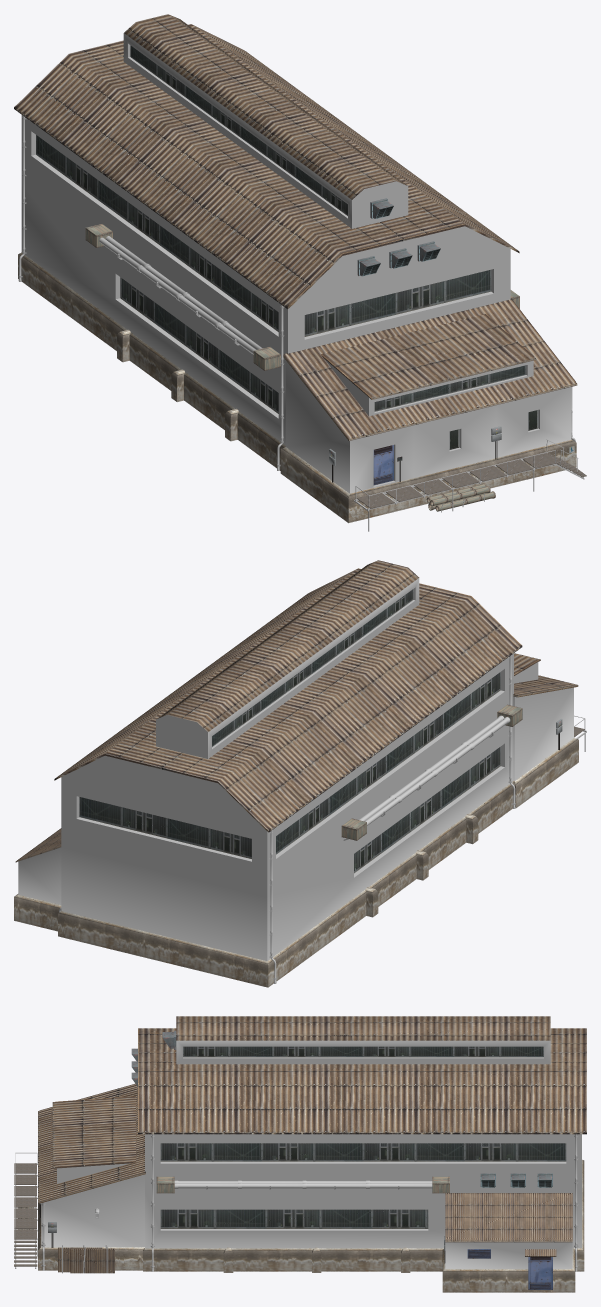
The model's file is building7_lod0.fbx.
3 views of the same model, one above another, from view 1: azimuth 30°, elevation 25°; view 2: azimuth 150°, elevation 25°; view 3: azimuth 270°, elevation 25° (orthographic). The views are drawn at different scales.
Visible parts, largest first — view 1: Mesh Object_ncl1_6, Mesh Object, Mesh Object_ncl1_8, Mesh Object_ncl1_1, Mesh Object_ncl1_5; view 2: Mesh Object_ncl1_6, Mesh Object, Mesh Object_ncl1_7, Mesh Object_ncl1_8; view 3: Mesh Object_ncl1_6, Mesh Object, Mesh Object_ncl1_7, Mesh Object_ncl1_8, Mesh Object_ncl1_1, Mesh Object_ncl1_3.
Boxes of the visible parts, x1,y1,x2,y2 form: Mesh Object_ncl1_6: (14, 14, 519, 470); Mesh Object: (280, 298, 577, 523); Mesh Object_ncl1_8: (18, 115, 519, 470); Mesh Object_ncl1_1: (354, 439, 586, 531); Mesh Object_ncl1_5: (426, 483, 495, 512); Mesh Object_ncl1_6: (54, 560, 522, 987); Mesh Object: (513, 653, 578, 808); Mesh Object_ncl1_7: (14, 828, 61, 931); Mesh Object_ncl1_8: (59, 655, 522, 983); Mesh Object_ncl1_6: (138, 1016, 586, 1272); Mesh Object: (38, 1083, 145, 1270); Mesh Object_ncl1_7: (442, 1193, 575, 1292); Mesh Object_ncl1_8: (131, 1030, 578, 1271); Mesh Object_ncl1_1: (14, 1152, 37, 1268); Mesh Object_ncl1_3: (58, 1244, 114, 1273).
Size of the model in its own units: 17.41 by 13.81 by 35.17.
